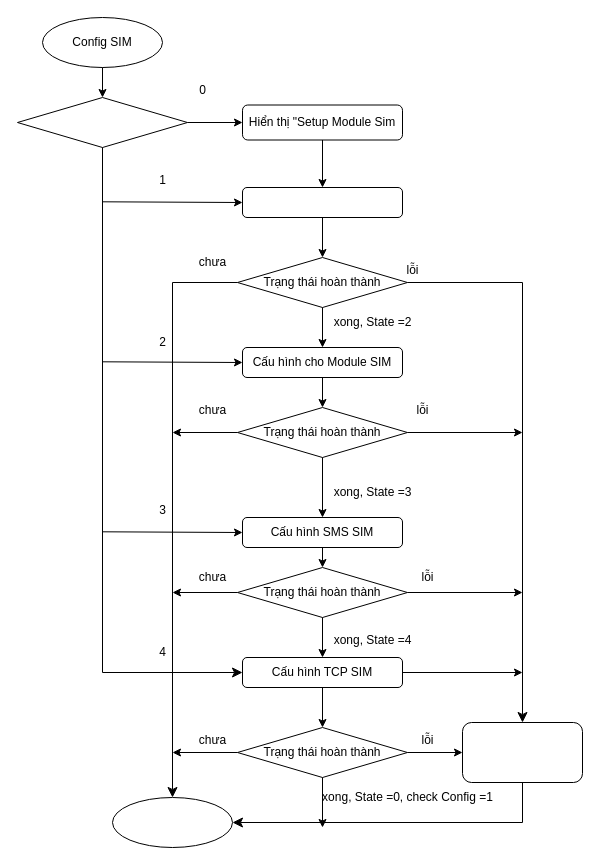
Some shapes in this 600 by 865 pixel diagram are drawn without their labels. Each missing label, with the box of its shape:
Bật Module Sim: (242, 186, 402, 218)
Kết thúc: (112, 796, 232, 848)
State: (16, 96, 188, 148)
State = 0: (462, 722, 582, 782)
